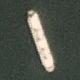ship: (0, 0, 22, 35)
